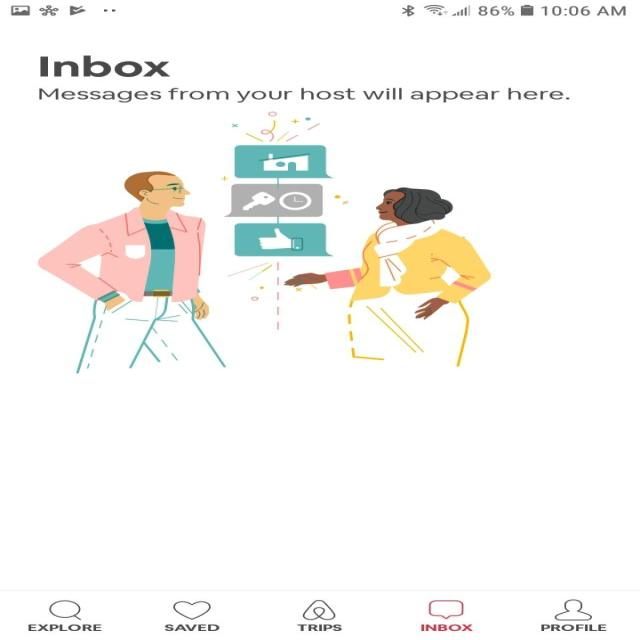Icon: (553, 599, 591, 620), (172, 600, 210, 619), (426, 600, 464, 619), (48, 599, 82, 620)
Image: (37, 111, 491, 374), (302, 599, 336, 620)
Text: (39, 88, 570, 102), (39, 55, 171, 78), (540, 624, 606, 632), (28, 624, 102, 631), (163, 624, 220, 632), (420, 624, 473, 631), (296, 624, 342, 631)
